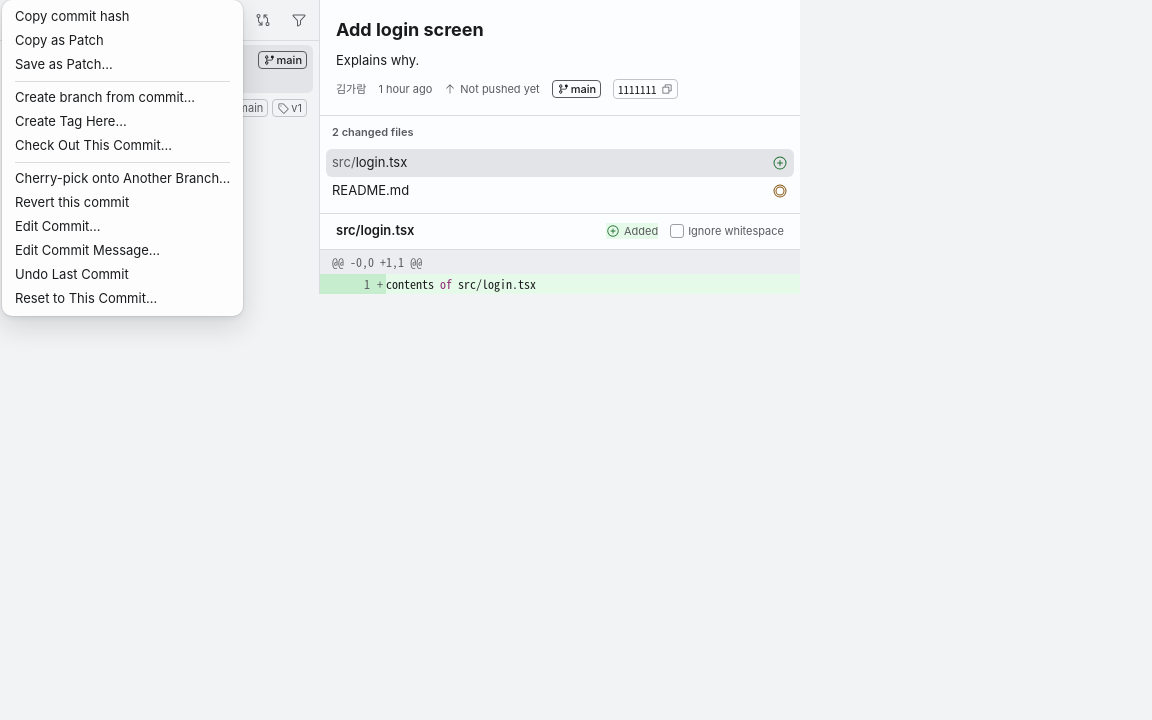
Test: HistoryView › undoes the last commit and keeps its message for the commit form
The width and height of the screenshot is (1152, 720).
Click the menu item "Undo Last Commit": (72, 274) [15, 266, 129, 282]
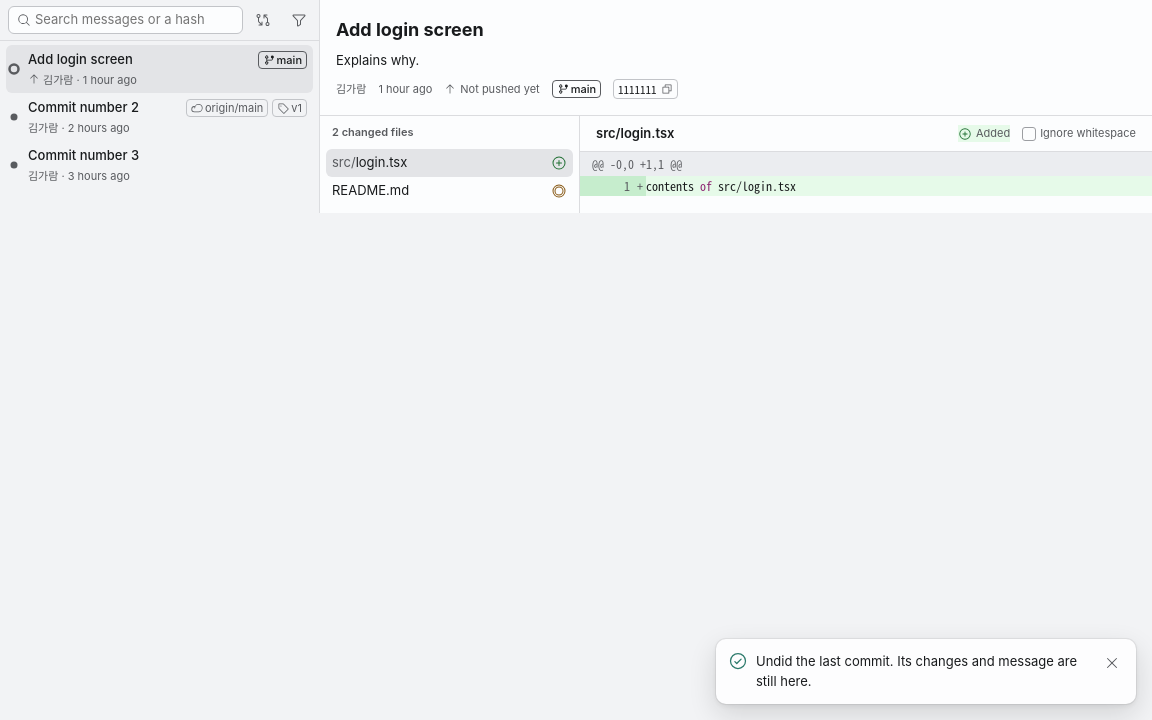
Now the text "Undid the last commit. Its changes and message are still here." is shown, box [756, 652, 1088, 691]
